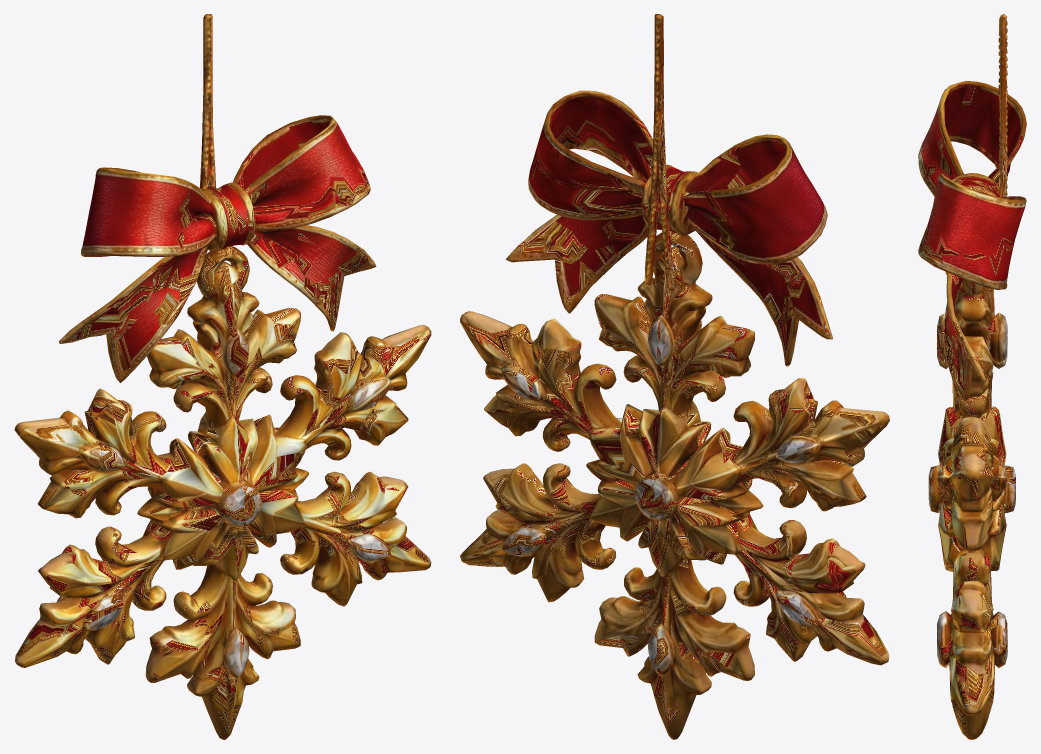
File: snowflake.glb
3 views of the same model, side by side, from view 1: azimuth 30°, elevation 25°; view 2: azimuth 150°, elevation 25°; view 3: azimuth 270°, elevation 25° (orthographic). The views are drawn at different scales.
Parts seen in each view (by area): view 1: tripo_node_6fecc0e1-105b-4045-aaa2-fac7a5be1cc8; view 2: tripo_node_6fecc0e1-105b-4045-aaa2-fac7a5be1cc8; view 3: tripo_node_6fecc0e1-105b-4045-aaa2-fac7a5be1cc8.
Boxes of the visible parts, x1,y1,x2,y2 form: tripo_node_6fecc0e1-105b-4045-aaa2-fac7a5be1cc8: [14, 14, 431, 739]; tripo_node_6fecc0e1-105b-4045-aaa2-fac7a5be1cc8: [460, 14, 889, 739]; tripo_node_6fecc0e1-105b-4045-aaa2-fac7a5be1cc8: [918, 14, 1026, 739].
Bounding box in the file's own units: 0.5972 × 0.9853 × 0.134.
Materials: 1 (1 with a texture image).
